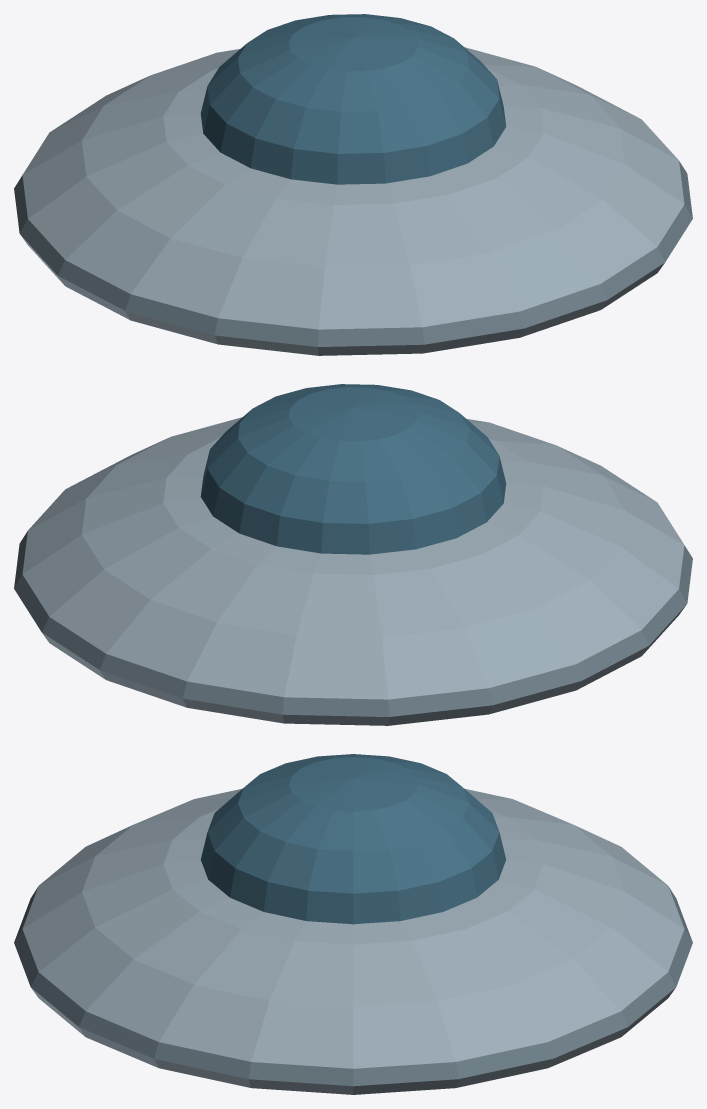
The model's file is NEW_RECOVERY_076_LOD2.glb.
3 renders of one model, top to bottom at view 1: azimuth 30°, elevation 25°; view 2: azimuth 150°, elevation 25°; view 3: azimuth 270°, elevation 25°, orthographic.
Parts seen in each view (by area): view 1: UFO_fictional_solid_prop; view 2: UFO_fictional_solid_prop; view 3: UFO_fictional_solid_prop.
Boxes of the visible parts, <box> form: UFO_fictional_solid_prop: <box>14,14,692,355</box>; UFO_fictional_solid_prop: <box>14,384,692,725</box>; UFO_fictional_solid_prop: <box>14,754,692,1094</box>.
Bounding box in the file's own units: 4 × 1.44 × 4.
